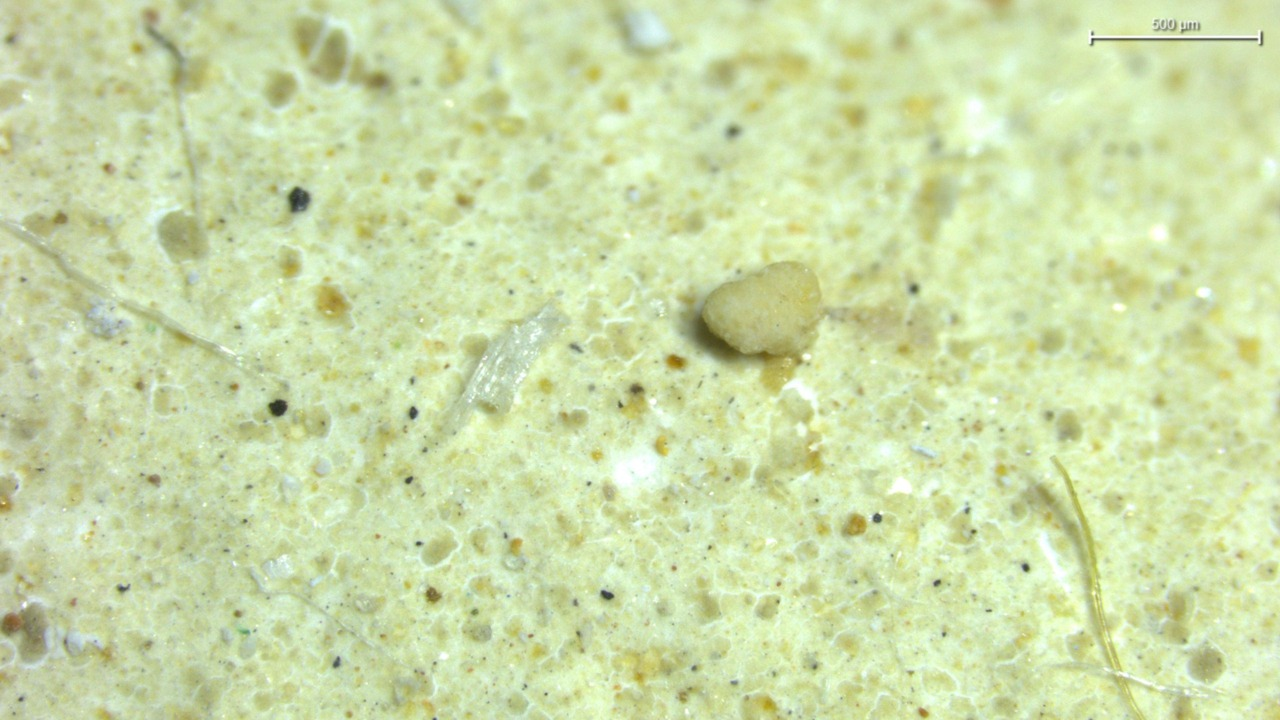microplastic_fragment: (444, 305, 562, 433)
